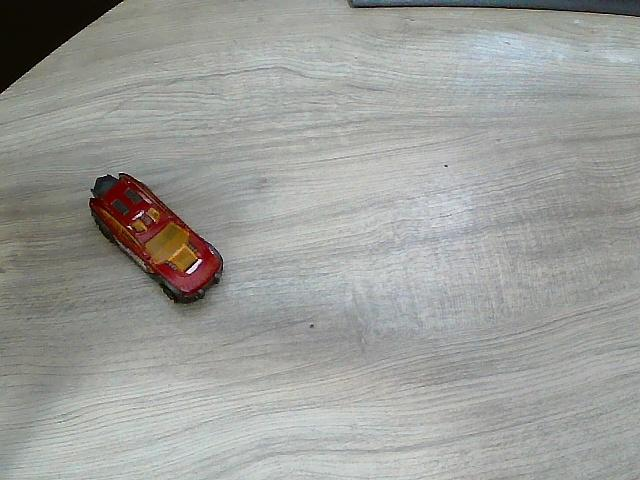Carro: (89, 174, 223, 305)
